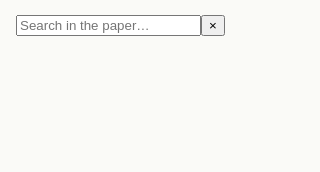
Test: finds hits across pages, jumps to the first and moves with Enter
The image size is (320, 172).
Later steps or results of the test are not shown.
Type "needle" into the search field labelled "Search" at (108, 26), box [16,15,201,36]
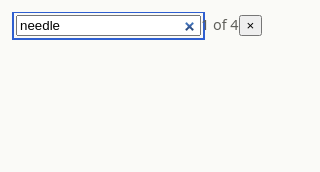
Now the text "1 of 4" is shown, box [201,15,239,34]
Press Enter
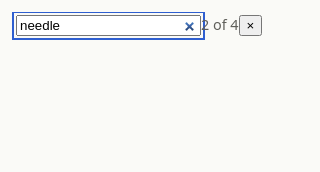
Now the text "2 of 4" is shown, box [201,15,239,34]
